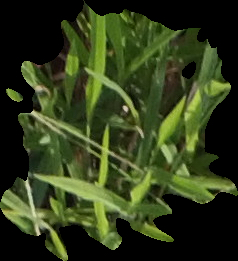grass: (1, 1, 237, 260)
